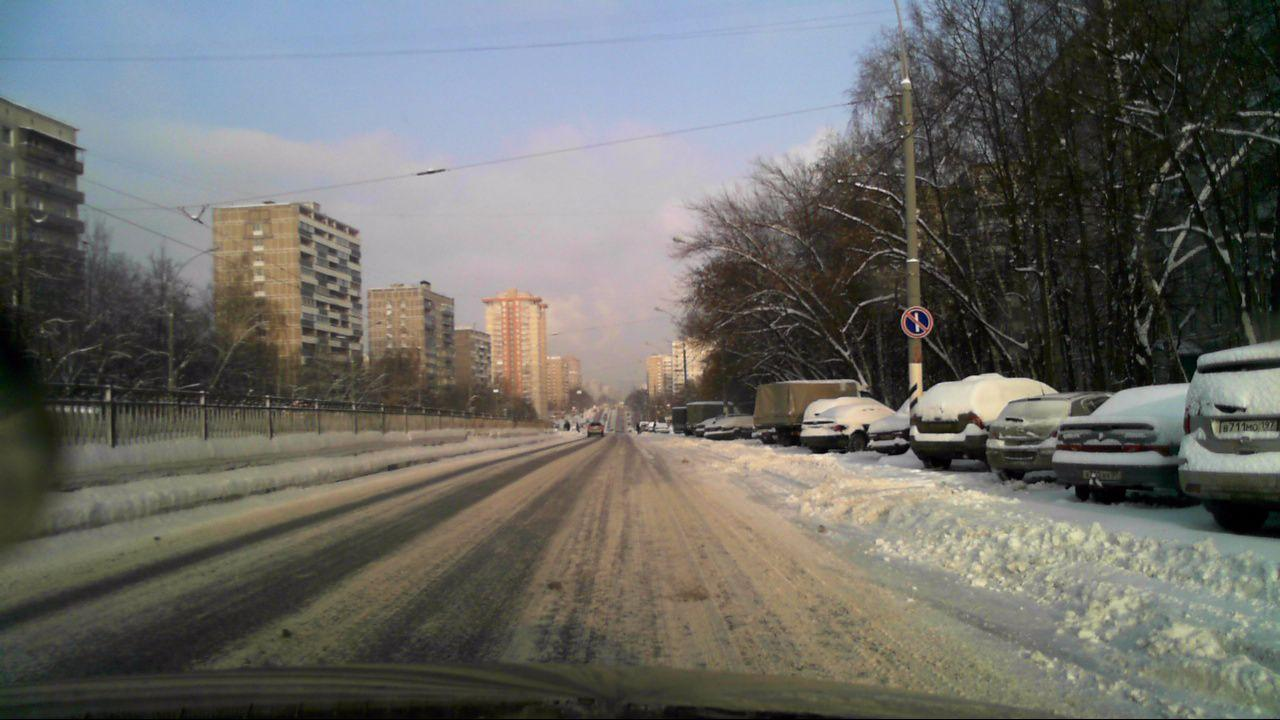3_29: (898, 303, 932, 340)
